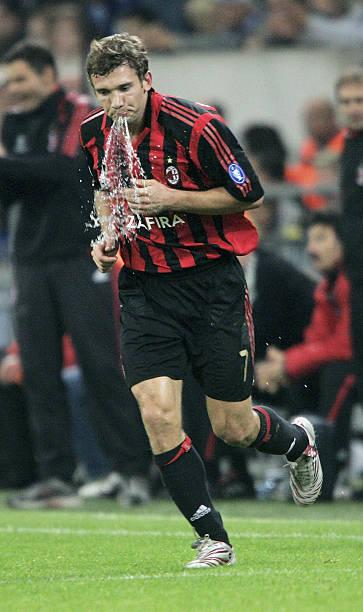Spitting: (47, 20, 238, 235)
